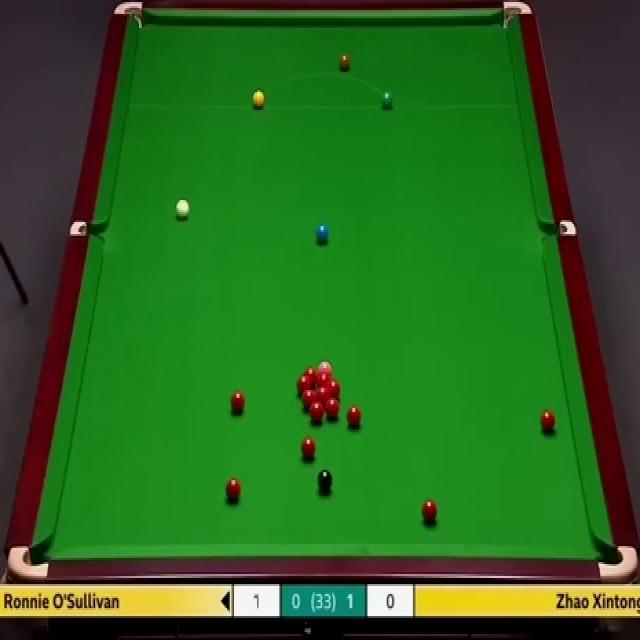pocket: (7, 543, 50, 582), (597, 542, 637, 583), (111, 0, 145, 34), (499, 0, 531, 32), (541, 218, 575, 237), (68, 222, 104, 236)
